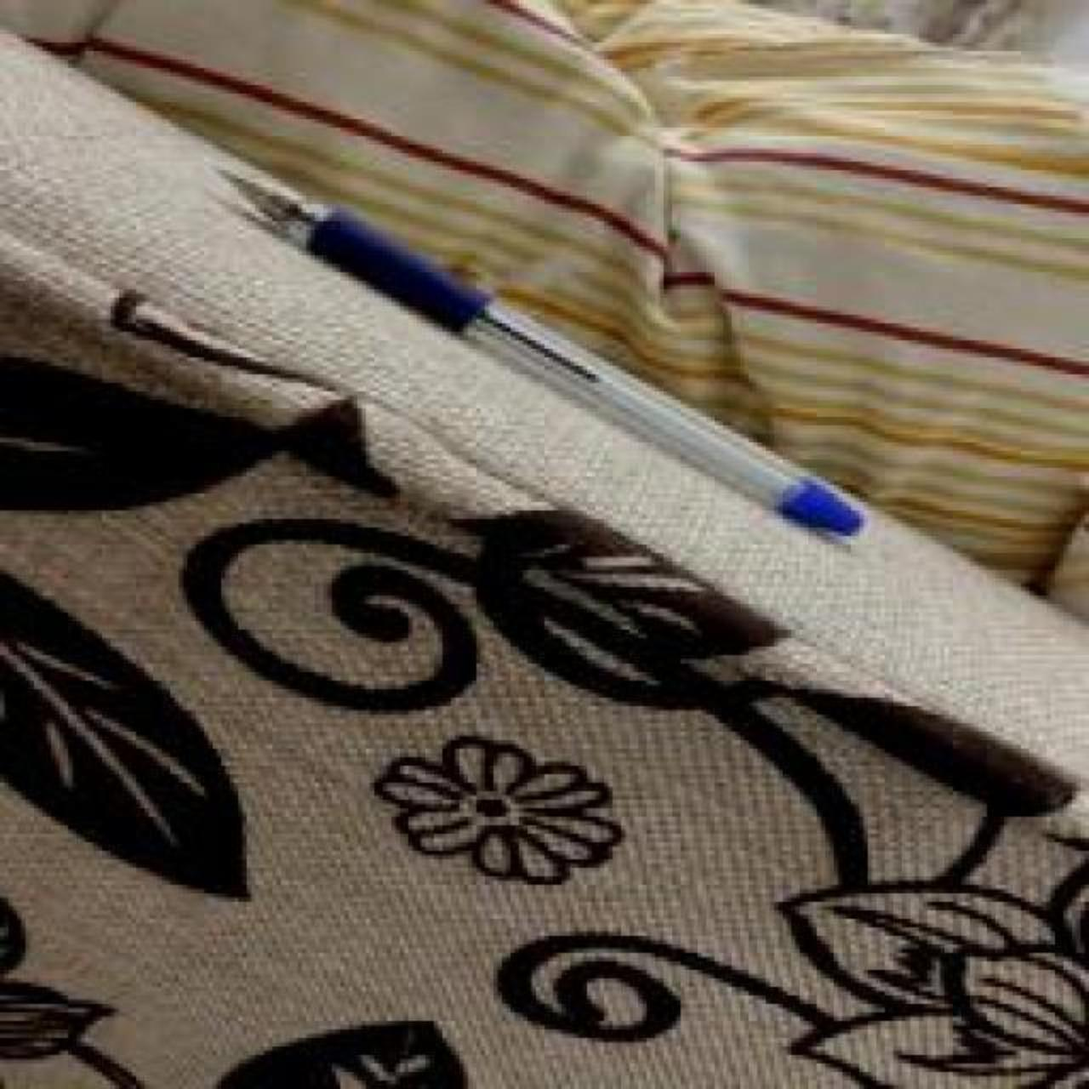pen: (213, 162, 868, 541)
